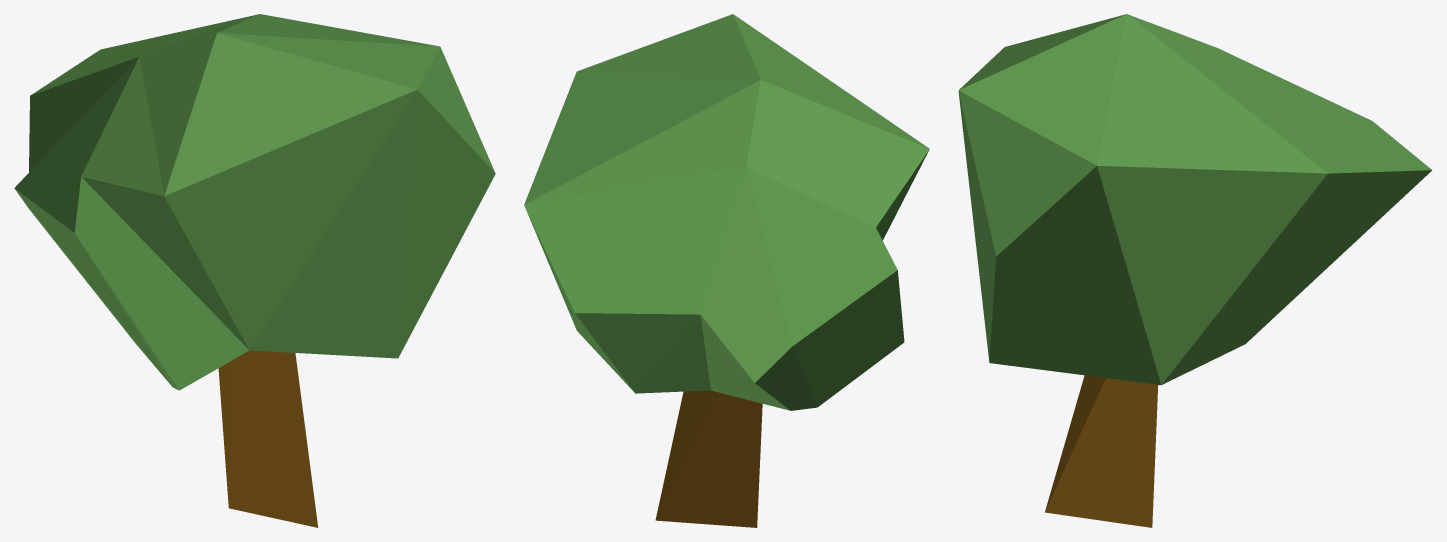
The model's file is Tree_5.fbx.
The picture shows the model from 3 angles, left to right: view 1: azimuth 30°, elevation 25°; view 2: azimuth 150°, elevation 25°; view 3: azimuth 270°, elevation 25°; orthographic projection. The views are drawn at different scales.
Visible parts, largest first — view 1: LeafyTree.004; view 2: LeafyTree.004; view 3: LeafyTree.004.
Boxes of the visible parts, x1,y1,x2,y2 form: LeafyTree.004: (14,14,495,527); LeafyTree.004: (524,14,929,527); LeafyTree.004: (958,14,1432,527).
Size of the model in its own units: 0.6897 by 0.8888 by 0.8125.
